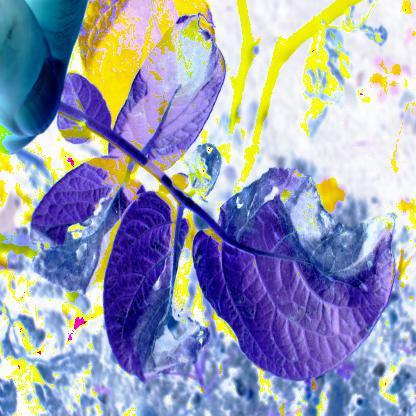Potato leaf late blight: (187, 166, 396, 384), (106, 13, 227, 172), (101, 188, 190, 382), (31, 156, 146, 294)
